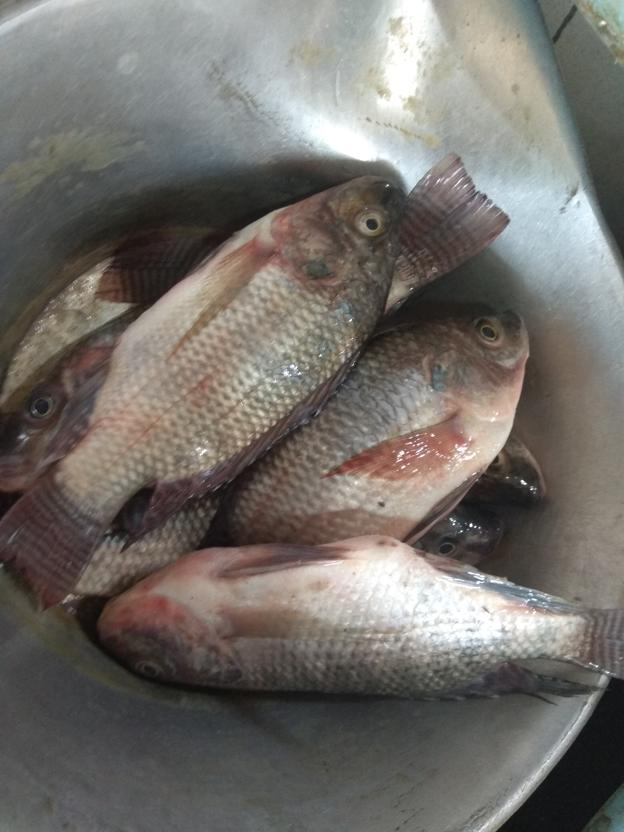Fish head: (268, 174, 406, 303), (96, 564, 237, 689), (1, 335, 107, 490), (426, 305, 532, 420), (460, 435, 551, 512), (417, 512, 508, 569)
Fish tail: (398, 150, 512, 289), (2, 468, 112, 611), (93, 232, 227, 306), (578, 605, 624, 679)
